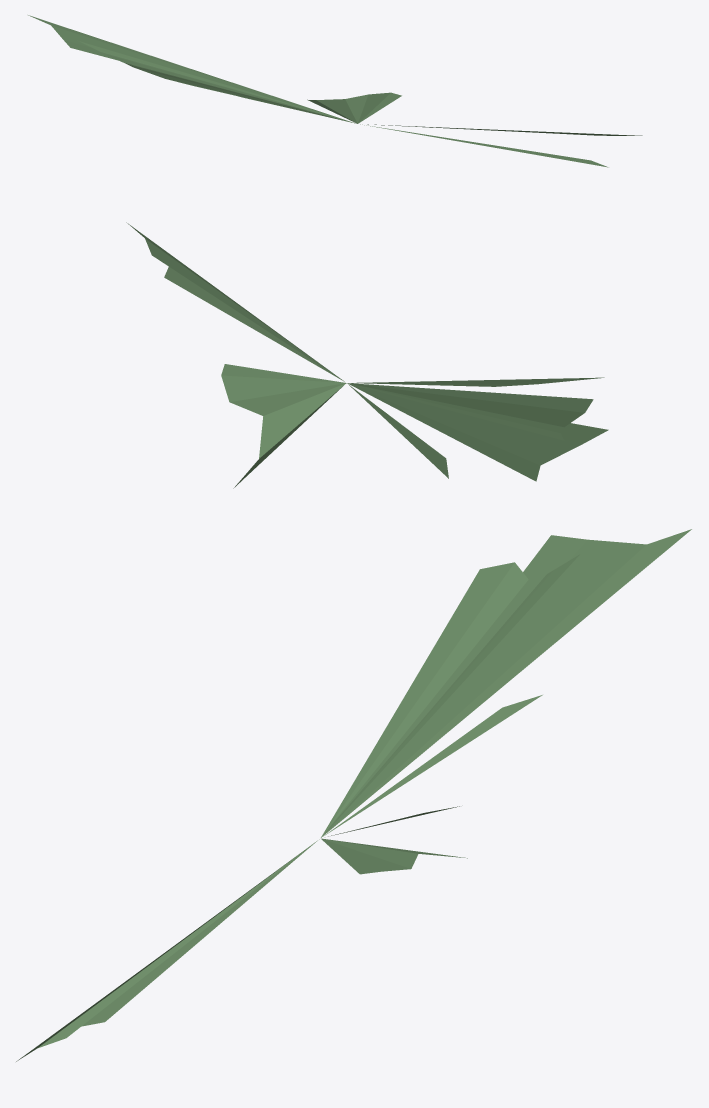
Rendered from c_1673_17817_forest.glb.
3 renders of one model, top to bottom at view 1: azimuth 30°, elevation 25°; view 2: azimuth 150°, elevation 25°; view 3: azimuth 270°, elevation 25°, orthographic. The views are drawn at different scales.
Parts seen in each view (by area): view 1: geometry_0; view 2: geometry_0; view 3: geometry_0.
Part boxes in pixels (left/top/right/bottom): geometry_0: left=28, top=15, right=642, bottom=167; geometry_0: left=126, top=222, right=608, bottom=488; geometry_0: left=16, top=529, right=691, bottom=1061.
Size of the model in its own units: 575 by 124 by 415.
